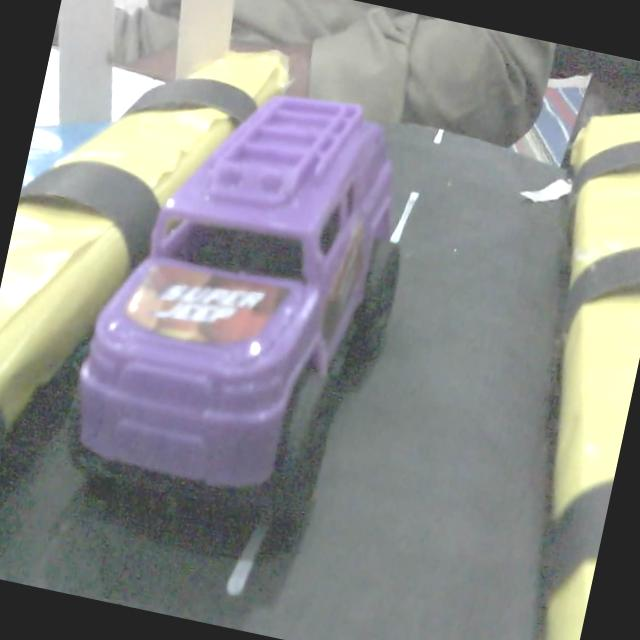OneCar: (76, 97, 399, 523)
